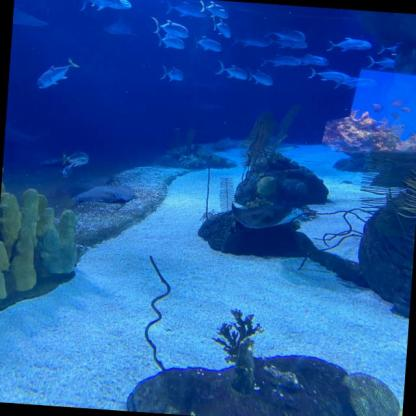fish: (36, 55, 80, 92), (72, 0, 132, 14), (326, 36, 372, 54), (150, 17, 189, 38), (165, 1, 208, 19), (332, 75, 376, 91), (306, 67, 352, 82), (263, 26, 306, 42), (214, 60, 248, 80), (260, 52, 301, 68), (63, 145, 90, 168), (231, 33, 269, 48), (192, 34, 223, 52), (266, 37, 308, 50), (154, 32, 186, 49), (245, 67, 274, 85), (210, 15, 232, 38), (160, 64, 186, 82), (199, 4, 230, 19), (299, 53, 330, 67), (377, 40, 403, 56), (80, 0, 124, 9), (367, 56, 395, 70), (214, 136, 242, 149), (58, 164, 76, 179)
shark: (4, 118, 49, 150), (101, 9, 141, 37), (12, 0, 50, 29)
stingray: (230, 200, 308, 232), (71, 180, 134, 204)
